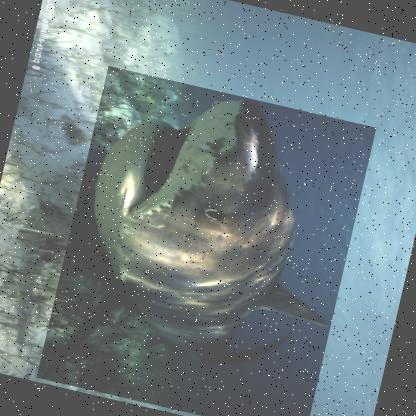tiger-shark: (35, 63, 377, 415)
